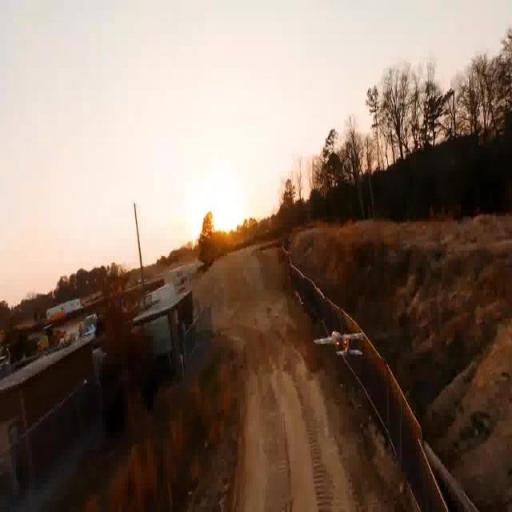uav: (312, 316, 368, 366)
